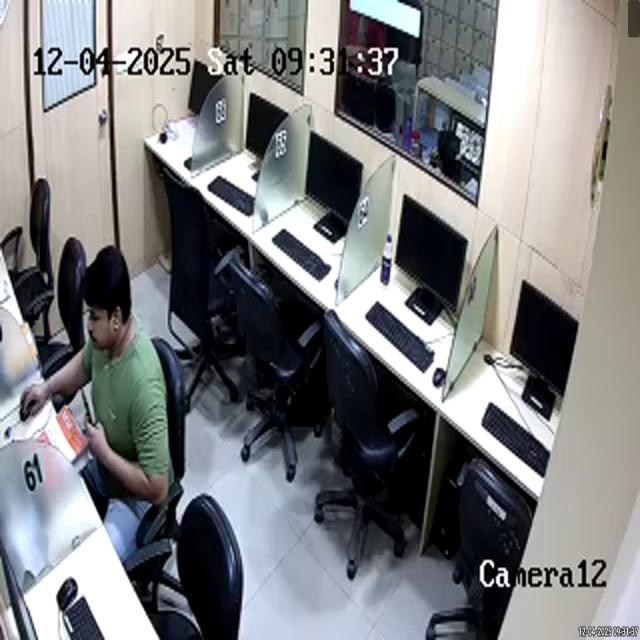phone: (73, 381, 98, 426)
